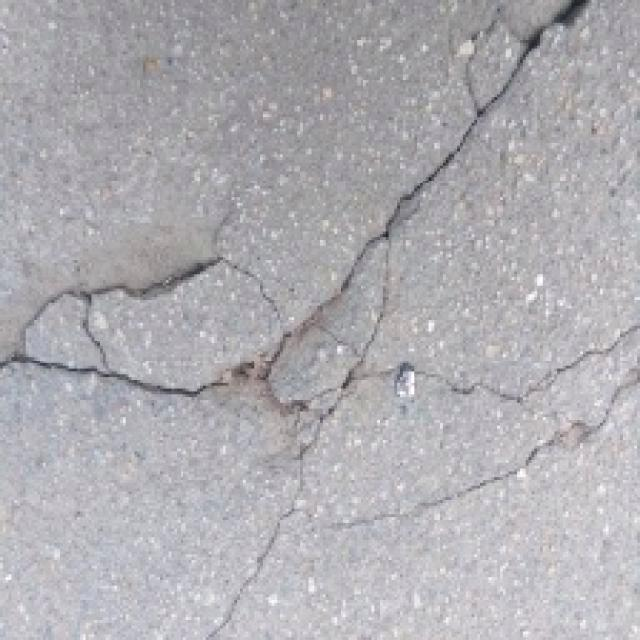SurfaceCrack: (0, 4, 624, 430)
